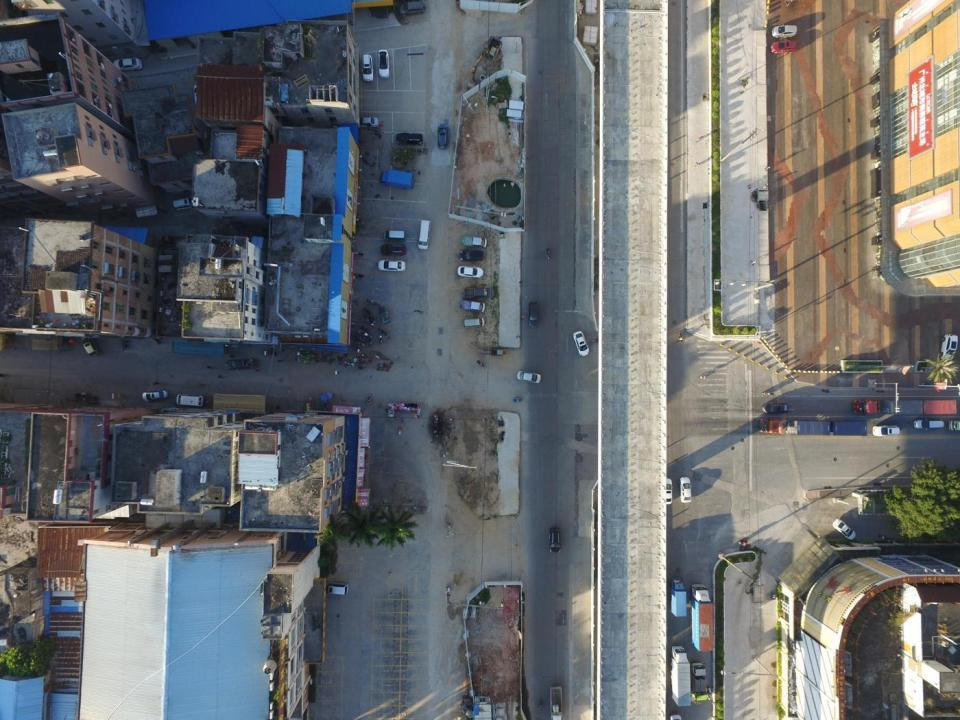car: (831, 518, 857, 541), (79, 334, 100, 357), (360, 52, 376, 82), (396, 130, 424, 147), (940, 332, 957, 360), (770, 22, 799, 38), (658, 476, 674, 505), (769, 40, 797, 56), (573, 330, 590, 356), (377, 258, 406, 273), (517, 368, 542, 385), (377, 49, 391, 78), (678, 475, 692, 504), (436, 123, 450, 150), (140, 389, 169, 402), (872, 424, 901, 437), (378, 243, 406, 256), (527, 300, 540, 328), (549, 526, 562, 552), (356, 115, 380, 129), (456, 266, 482, 278), (762, 403, 789, 414), (460, 251, 484, 262)
truck: (759, 417, 868, 437), (851, 398, 957, 417), (690, 582, 715, 652), (668, 645, 692, 707), (377, 169, 416, 190), (691, 662, 708, 704), (670, 577, 687, 617), (550, 684, 562, 720), (224, 357, 256, 370), (463, 286, 493, 299), (461, 235, 487, 249), (460, 299, 486, 313)
van: (912, 416, 946, 433), (414, 219, 431, 250), (322, 580, 350, 596), (174, 394, 204, 407), (382, 228, 406, 241), (462, 316, 484, 329)
